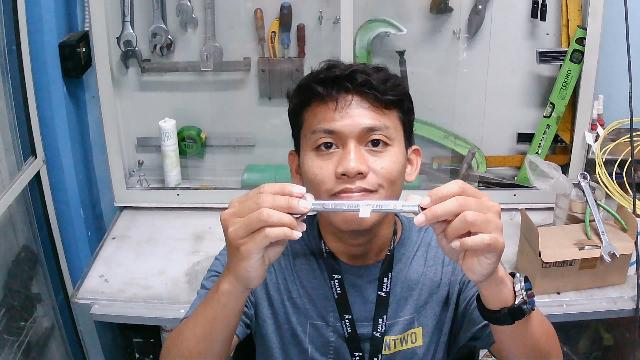kunci_pass_13: (284, 189, 451, 243)
